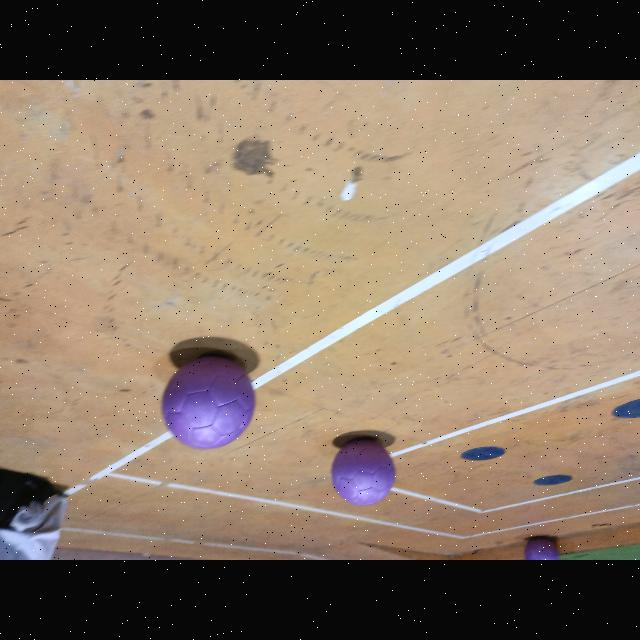P: (163, 357, 255, 449), (332, 440, 396, 506), (525, 538, 559, 560)
